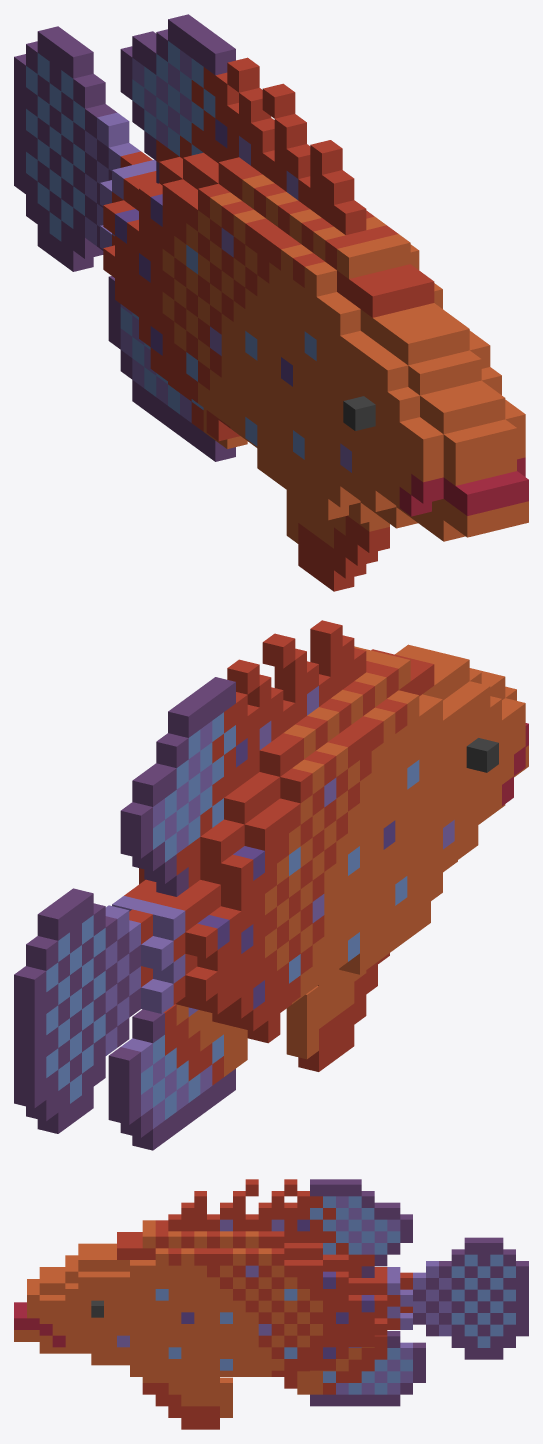
Rendered from coral-grouper.glb.
3 views of the same model, one above another, from view 1: azimuth 30°, elevation 25°; view 2: azimuth 150°, elevation 25°; view 3: azimuth 270°, elevation 25° (orthographic). The views are drawn at different scales.
Visible parts, largest first — view 1: Polygon; view 2: Polygon; view 3: Polygon.
Boxes of the visible parts, x1,y1,x2,y2 form: Polygon: (14,14,528,591); Polygon: (14,620,528,1150); Polygon: (14,1179,528,1429).
Bounding box in the file's own units: 0.7 × 2.1 × 4.
Materials: 1 (1 with a texture image).
